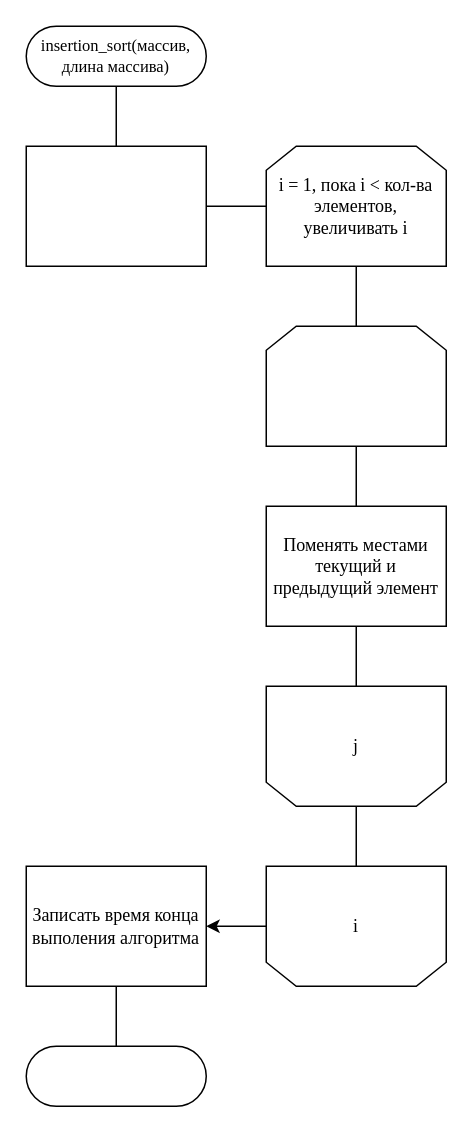
Some shapes in this 473 by 1133 pixel diagram are drawn without their labels. The shapes that lost their labels are listed below. From the top down, each one's box as (x1, y1, x2, y2) in pixels, then its label:
(25, 145, 206, 266): Записать время старта выполения алгоритма
(265, 325, 446, 446): j = i, пока j > 0 и текущий элемент меньше следующего, уменьшать j
(25, 1045, 206, 1106): Вернуть массив
